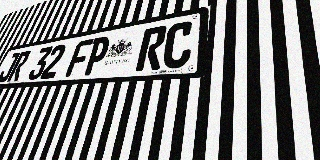2: (40, 43, 68, 79)
3: (27, 46, 53, 80)
C: (161, 20, 195, 69)
F: (65, 39, 94, 77)
J: (0, 52, 21, 83)
P: (82, 35, 112, 76)
R: (135, 25, 168, 71), (6, 50, 32, 82)
